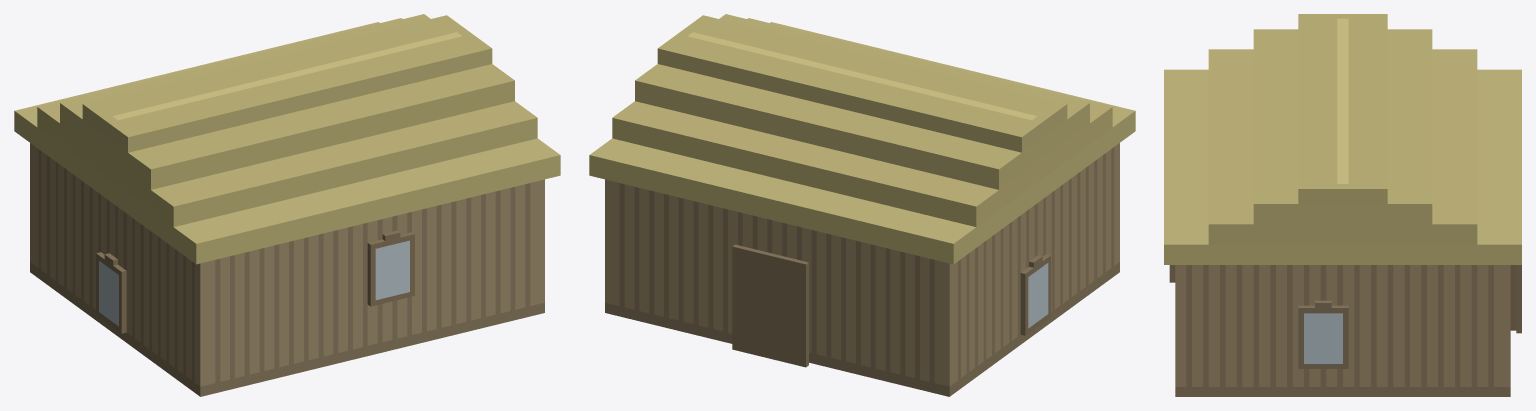
Rendered from cabana_cazador_01.glb.
3 renders of one model, left to right at view 1: azimuth 30°, elevation 25°; view 2: azimuth 150°, elevation 25°; view 3: azimuth 270°, elevation 25°, orthographic.
Visible parts, largest first — view 1: cabana_cazador_01; view 2: cabana_cazador_01; view 3: cabana_cazador_01.
Part boxes in pixels (left/top/right/bottom): cabana_cazador_01: left=14, top=14, right=560, bottom=396; cabana_cazador_01: left=589, top=14, right=1135, bottom=396; cabana_cazador_01: left=1164, top=14, right=1521, bottom=396.
Bounding box in the file's own units: 7.4 × 4.2 × 6.4.
